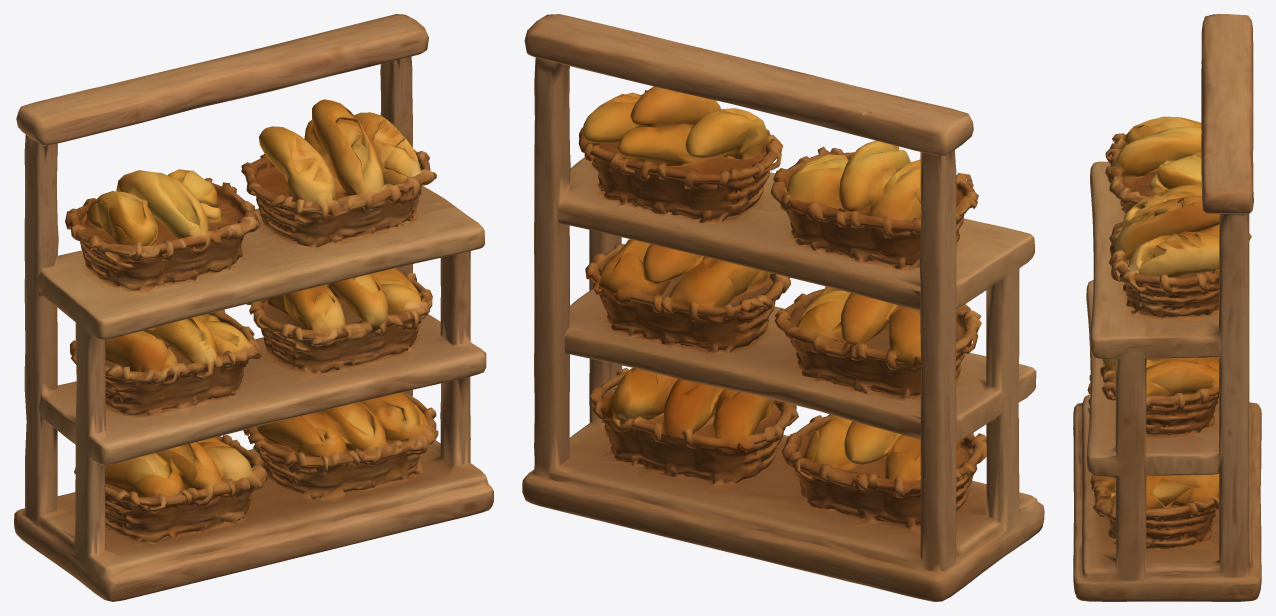
File: padaria_pao.glb
The picture shows the model from 3 angles, left to right: view 1: azimuth 30°, elevation 25°; view 2: azimuth 150°, elevation 25°; view 3: azimuth 270°, elevation 25°; orthographic projection. The views are drawn at different scales.
Parts seen in each view (by area): view 1: tripo_node_2bff8cfb-963f-4ed5-8506-c02033f8fe74; view 2: tripo_node_2bff8cfb-963f-4ed5-8506-c02033f8fe74; view 3: tripo_node_2bff8cfb-963f-4ed5-8506-c02033f8fe74.
Part boxes in pixels (x1,y1,x2,y2): tripo_node_2bff8cfb-963f-4ed5-8506-c02033f8fe74: (14, 14, 493, 601); tripo_node_2bff8cfb-963f-4ed5-8506-c02033f8fe74: (522, 14, 1044, 601); tripo_node_2bff8cfb-963f-4ed5-8506-c02033f8fe74: (1073, 14, 1261, 601).
Bounding box in the file's own units: 0.9256 × 0.9802 × 0.4053.
Materials: 1 (1 with a texture image).
